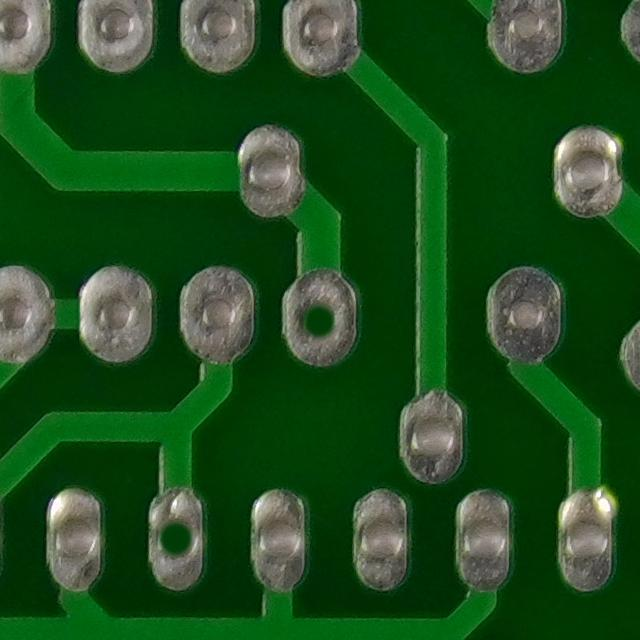missing_hole: (139, 496, 217, 585), (281, 279, 359, 359)
